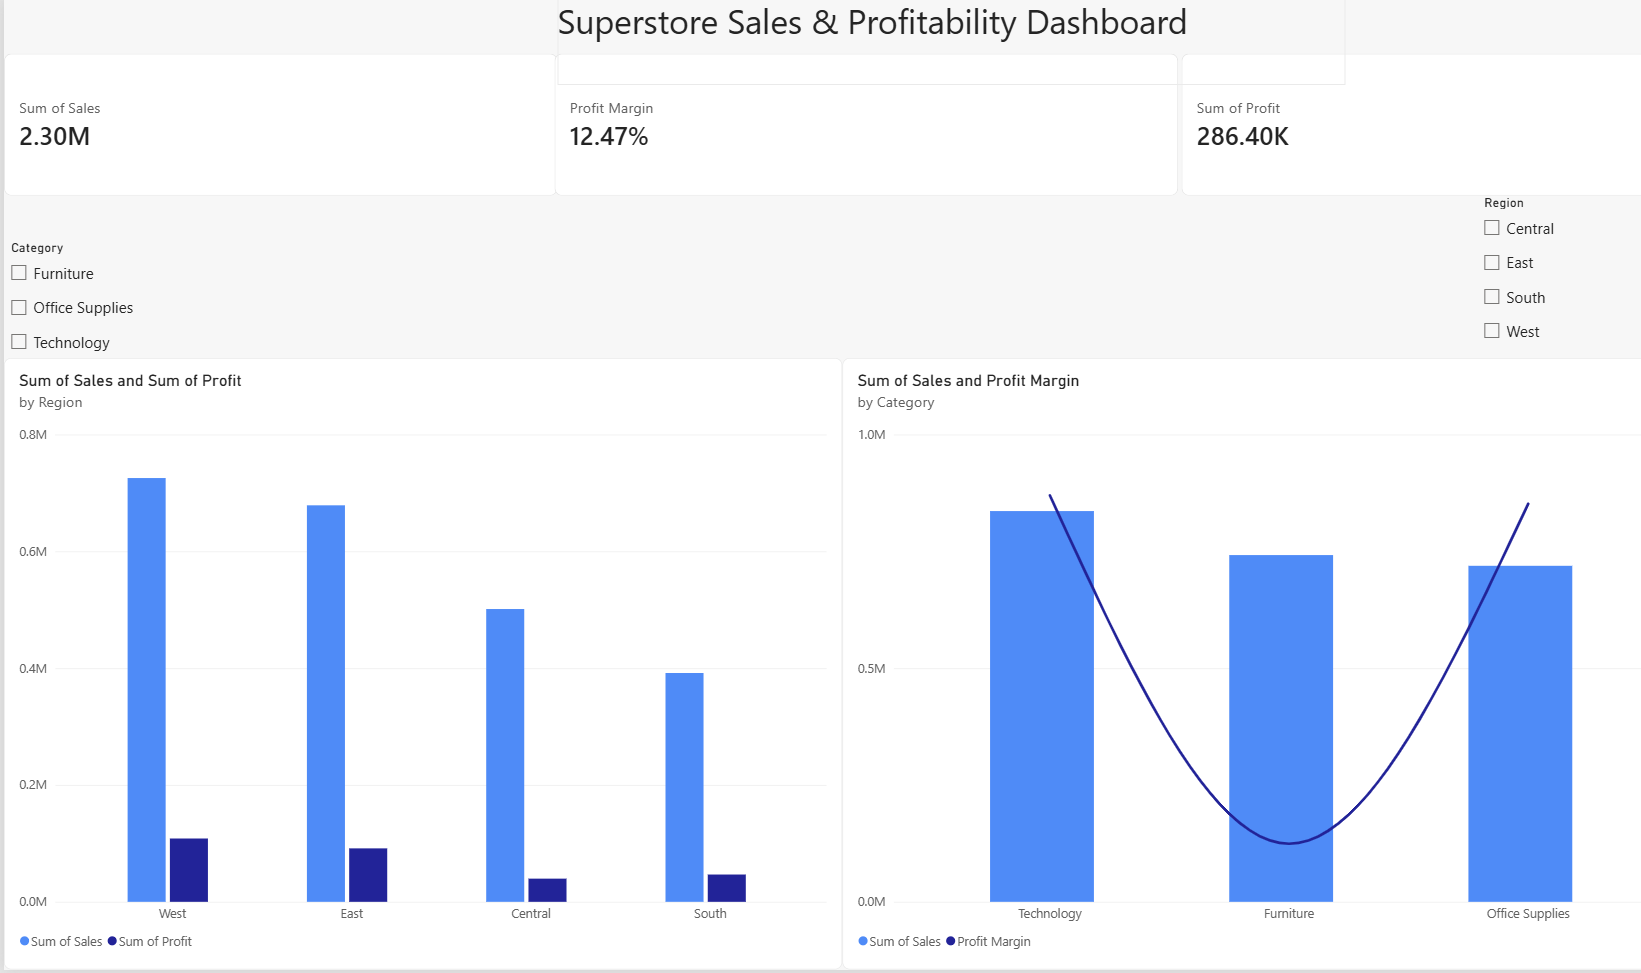

This screenshot's page, from the dashboard's own definition file:
{"tool":"powerbi","page":{"name":"Page 1","canvas":[1920,1080],"ordinal":0},"visuals":[{"type":"cardVisual","fields":{"Data":["Sum(Sample - Superstore.Sales)"]},"box":[0,60.8,615.3,158.2],"z":0},{"type":"cardVisual","fields":{"Data":["Sum(Sample - Superstore.Profit)"]},"box":[1308.8,60.8,611.8,158.2],"z":1000},{"type":"cardVisual","fields":{"Data":["Sample - Superstore.Profit Margin"]},"box":[611.8,60.8,693.5,158.2],"z":2000},{"type":"lineClusteredColumnComboChart","fields":{"Category":["Sample - Superstore.Category"],"Y":["Sum(Sample - Superstore.Sales)"],"Y2":["Sample - Superstore.Profit Margin"]},"box":[931.6,399.8,989,679.6],"z":3000},{"type":"clusteredColumnChart","fields":{"Category":["Sample - Superstore.Region"],"Y":["Sum(Sample - Superstore.Sales)","Sum(Sample - Superstore.Profit)"]},"box":[0,399.8,931.6,679.6],"z":4000},{"type":"slicer","fields":{"Values":["Sample - Superstore.Category"]},"box":[0,267.7,149.5,132.1],"z":5000},{"type":"slicer","fields":{"Values":["Sample - Superstore.Region"]},"box":[1637.3,219,283.3,180.8],"z":6000},{"type":"textbox","box":[149,228,466,172],"z":7000},{"type":"textbox","box":[615.3,0,874.3,97.3],"z":7001}]}

Visuals, with their boxes on the page's 1920x1080 design canvas (x1, y1, x2, y2). These are canvas units, not pixel positions in the 1641x973 screenshot, which may show the page scaled, cropped or inside an application window:
cardVisual - Sum(Sample - Superstore.Sales): bbox=[0, 61, 615, 219]
cardVisual - Sum(Sample - Superstore.Profit): bbox=[1309, 61, 1921, 219]
cardVisual - Sample - Superstore.Profit Margin: bbox=[612, 61, 1305, 219]
lineClusteredColumnComboChart - Sample - Superstore.Category x Sum(Sample - Superstore.Sales): bbox=[932, 400, 1921, 1079]
clusteredColumnChart - Sample - Superstore.Region x Sum(Sample - Superstore.Sales): bbox=[0, 400, 932, 1079]
slicer - Sample - Superstore.Category: bbox=[0, 268, 150, 400]
slicer - Sample - Superstore.Region: bbox=[1637, 219, 1921, 400]
textbox: bbox=[149, 228, 615, 400]
textbox: bbox=[615, 0, 1490, 97]
